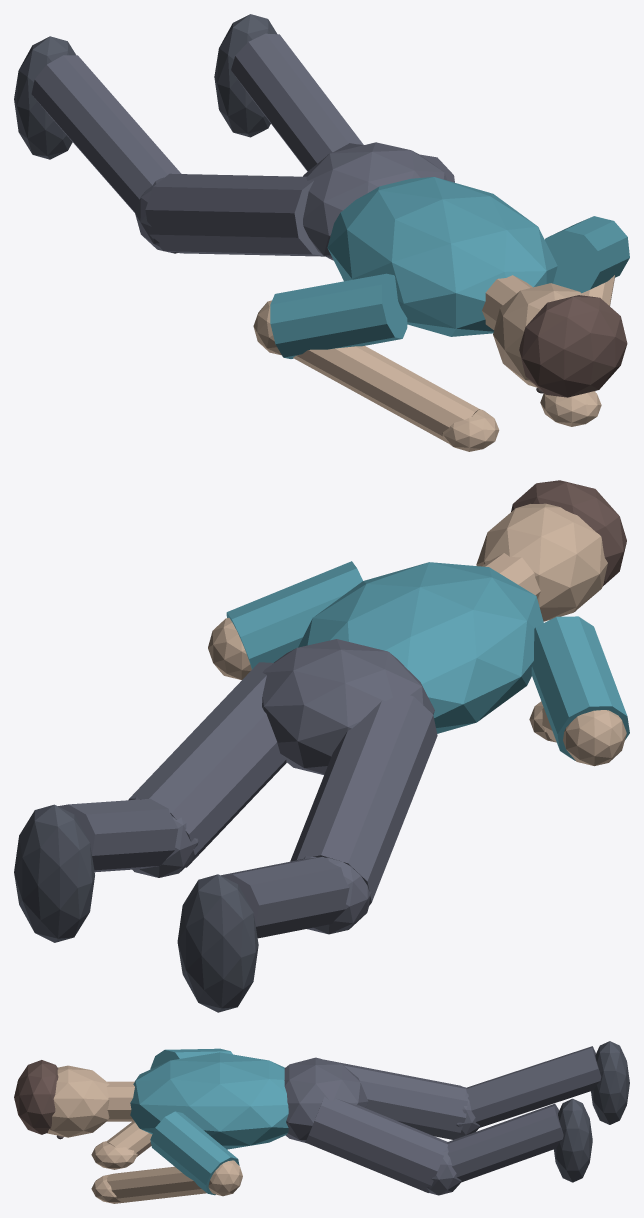
The picture shows the model from 3 angles, top to bottom: view 1: azimuth 30°, elevation 25°; view 2: azimuth 150°, elevation 25°; view 3: azimuth 270°, elevation 25°; orthographic projection. The views are drawn at different scales.
Parts seen in each view (by area): view 1: world; view 2: world; view 3: world.
Part boxes in pixels (box(x1,y1,x2,y2)): world: box(14, 14, 629, 451); world: box(14, 480, 629, 1012); world: box(14, 1041, 629, 1203).
Size of the model in its own units: 0.93 by 0.4363 by 1.99.
